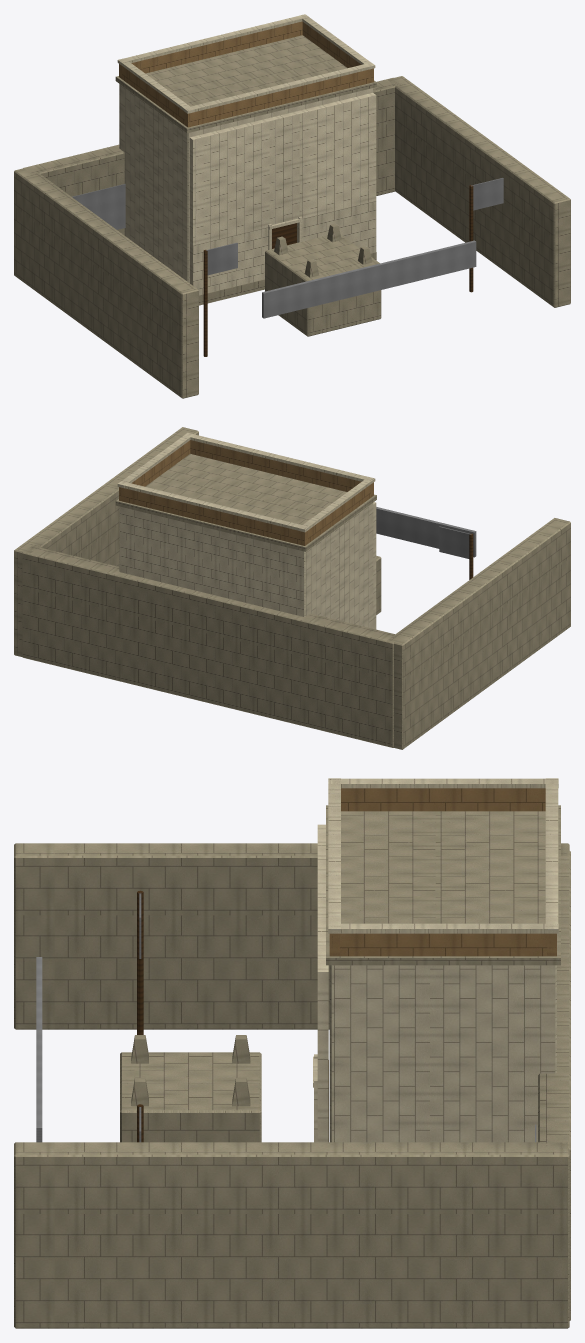
Rendered from shrine-israelite.glb.
3 views of the same model, one above another, from view 1: azimuth 30°, elevation 25°; view 2: azimuth 150°, elevation 25°; view 3: azimuth 270°, elevation 25° (orthographic). The views are drawn at different scales.
Visible parts, largest first — view 1: LOD0; view 2: LOD0; view 3: LOD0.
Boxes of the visible parts, bbox=[...] form: LOD0: bbox=[14, 14, 570, 398]; LOD0: bbox=[14, 427, 570, 749]; LOD0: bbox=[14, 778, 570, 1328].
Size of what is drawn, in the model's own units: 1.46 by 0.697 by 1.1.
2 materials, 2 textured.
